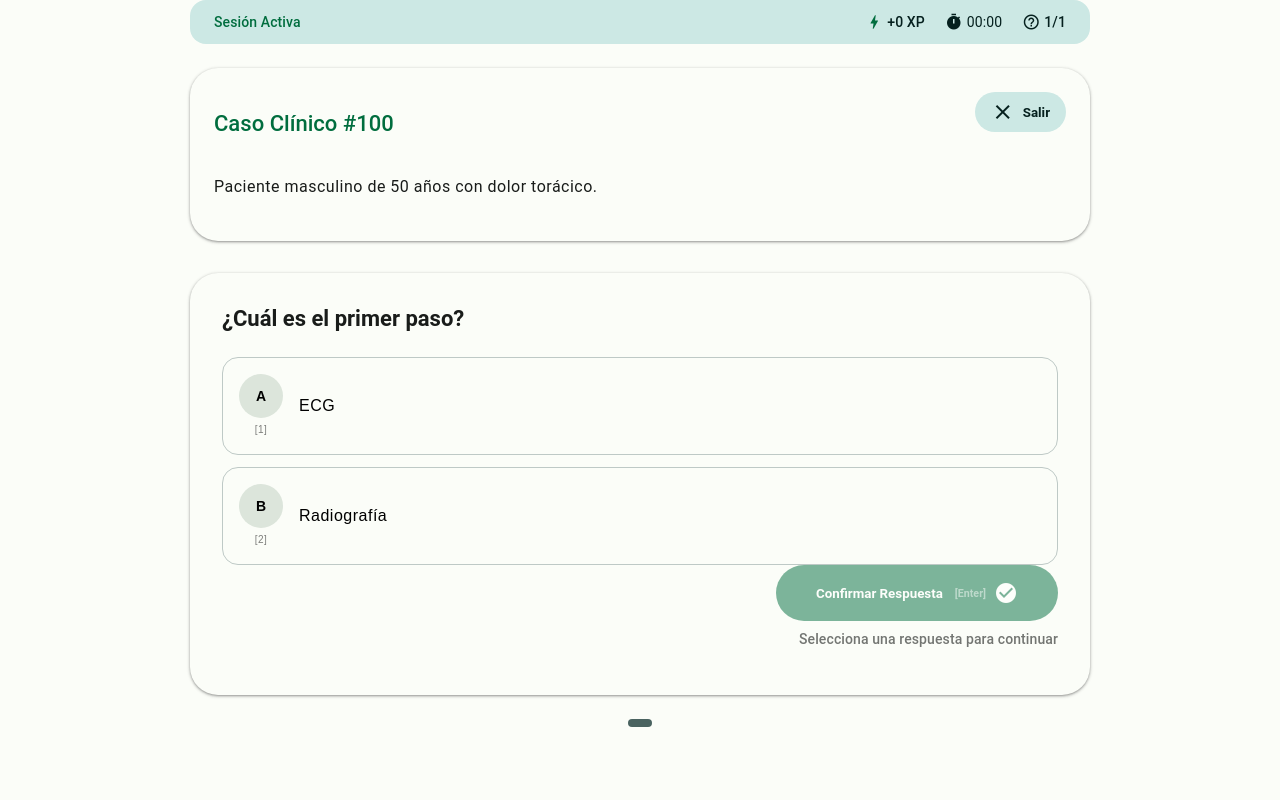
Test: V2Examen › shows feedback after submitting answer
The image size is (1280, 800).
Expected: the text "ECG" is shown, left=299, top=394, right=335, bottom=418
Select answer
Click the button with aria-label "Opción A": (261, 396) left=222, top=357, right=1058, bottom=455
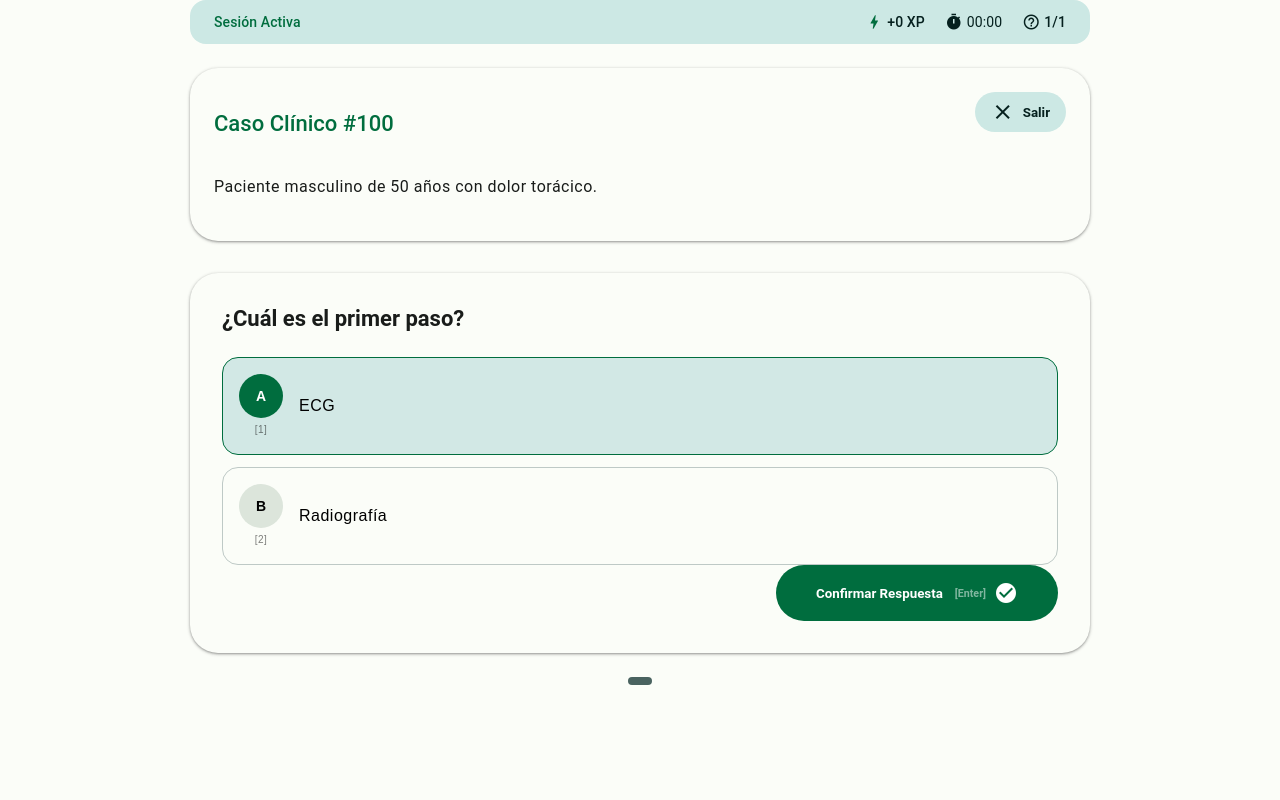
Submit - use lowercase in aria-label
Click the button "Confirmar Respuesta [Enter]": (917, 593) left=776, top=565, right=1058, bottom=621
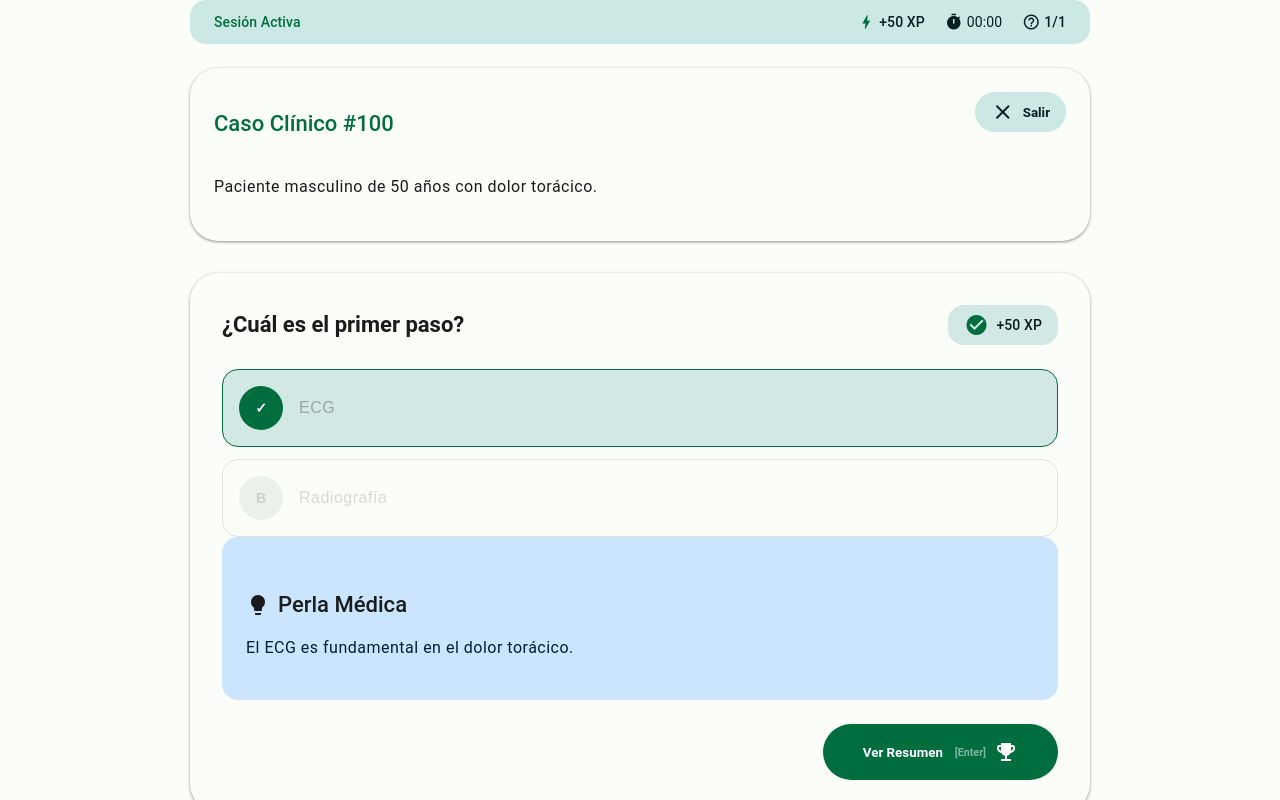
Now the text "+50 XP" next to "00:00" is shown, box left=879, top=12, right=925, bottom=32
Now the heading "Perla Médica" is shown, box left=246, top=592, right=407, bottom=616
